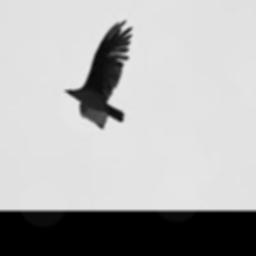Crow: (62, 17, 132, 128)
